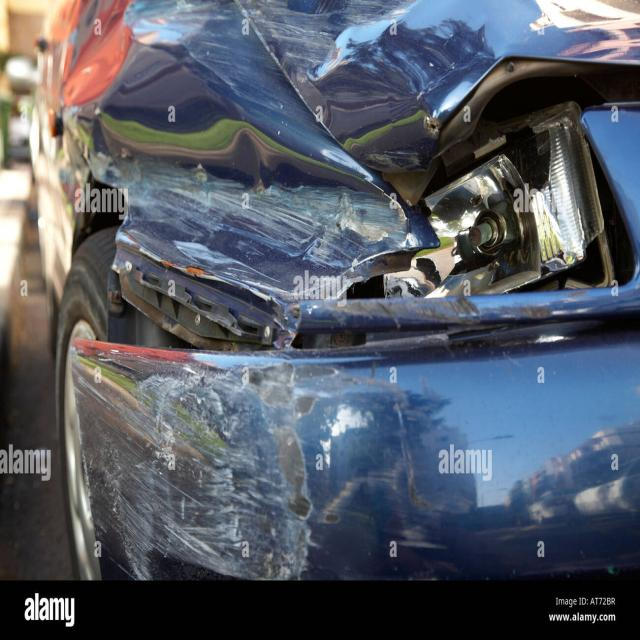crush: (52, 0, 640, 580)
